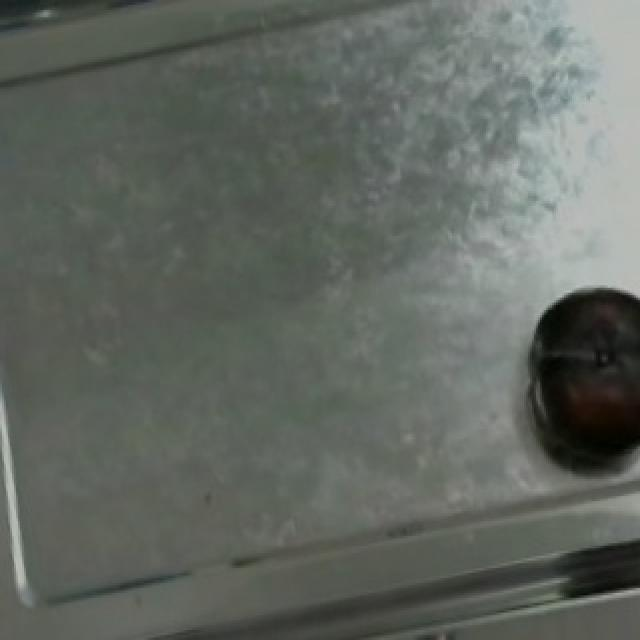Fruit: (526, 347, 640, 474), (524, 275, 640, 382)
